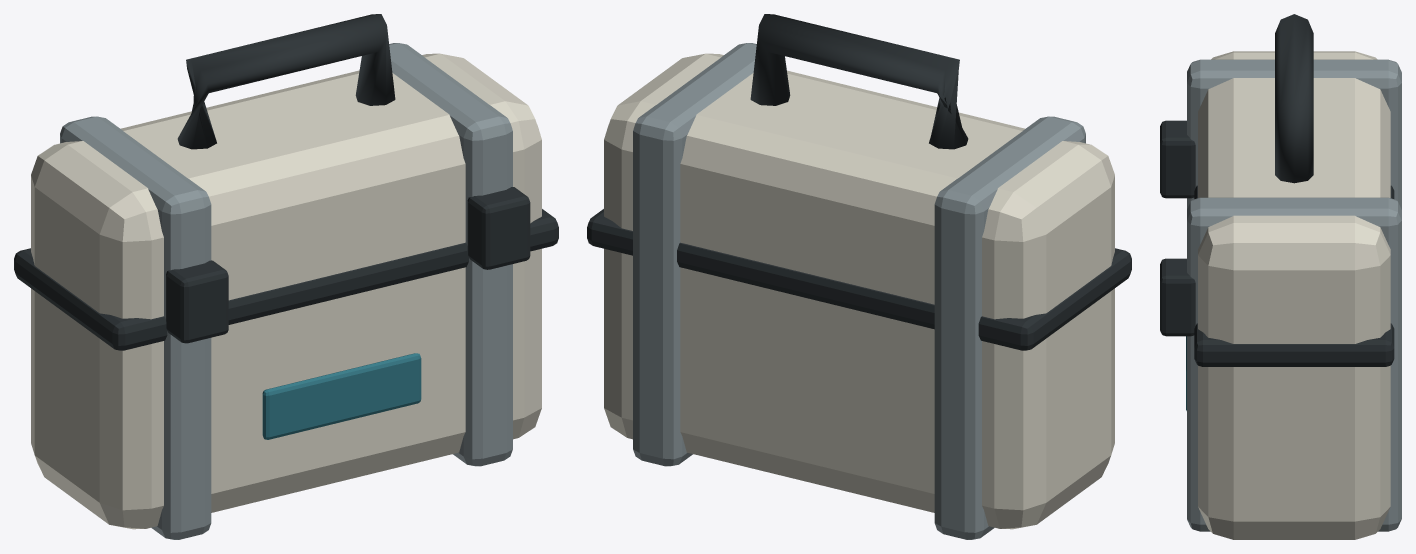
File: crew-field-case-b03.glb
The picture shows the model from 3 angles, left to right: view 1: azimuth 30°, elevation 25°; view 2: azimuth 150°, elevation 25°; view 3: azimuth 270°, elevation 25°; orthographic projection. The views are drawn at different scales.
Visible parts, largest first — view 1: H01 batch 00 / Blackout / ceramic service enamel, H01 batch 02 / Blackout / brushed titanium, H01 batch 01 / Blackout / graphite elastomer, H01 batch 03 / Blackout / water line enamel; view 2: H01 batch 00 / Blackout / ceramic service enamel, H01 batch 02 / Blackout / brushed titanium, H01 batch 01 / Blackout / graphite elastomer; view 3: H01 batch 00 / Blackout / ceramic service enamel, H01 batch 02 / Blackout / brushed titanium, H01 batch 01 / Blackout / graphite elastomer.
Boxes of the visible parts, x1,y1,x2,y2 form: H01 batch 00 / Blackout / ceramic service enamel: [31, 53, 541, 529]; H01 batch 02 / Blackout / brushed titanium: [60, 43, 512, 539]; H01 batch 01 / Blackout / graphite elastomer: [14, 14, 558, 350]; H01 batch 03 / Blackout / water line enamel: [262, 353, 421, 439]; H01 batch 00 / Blackout / ceramic service enamel: [604, 53, 1114, 529]; H01 batch 02 / Blackout / brushed titanium: [633, 43, 1085, 539]; H01 batch 01 / Blackout / graphite elastomer: [587, 14, 1131, 350]; H01 batch 00 / Blackout / ceramic service enamel: [1198, 51, 1390, 539]; H01 batch 02 / Blackout / brushed titanium: [1187, 59, 1401, 531]; H01 batch 01 / Blackout / graphite elastomer: [1160, 14, 1394, 366].
Bounding box in the file's own units: 0.325 × 0.2973 × 0.163.
